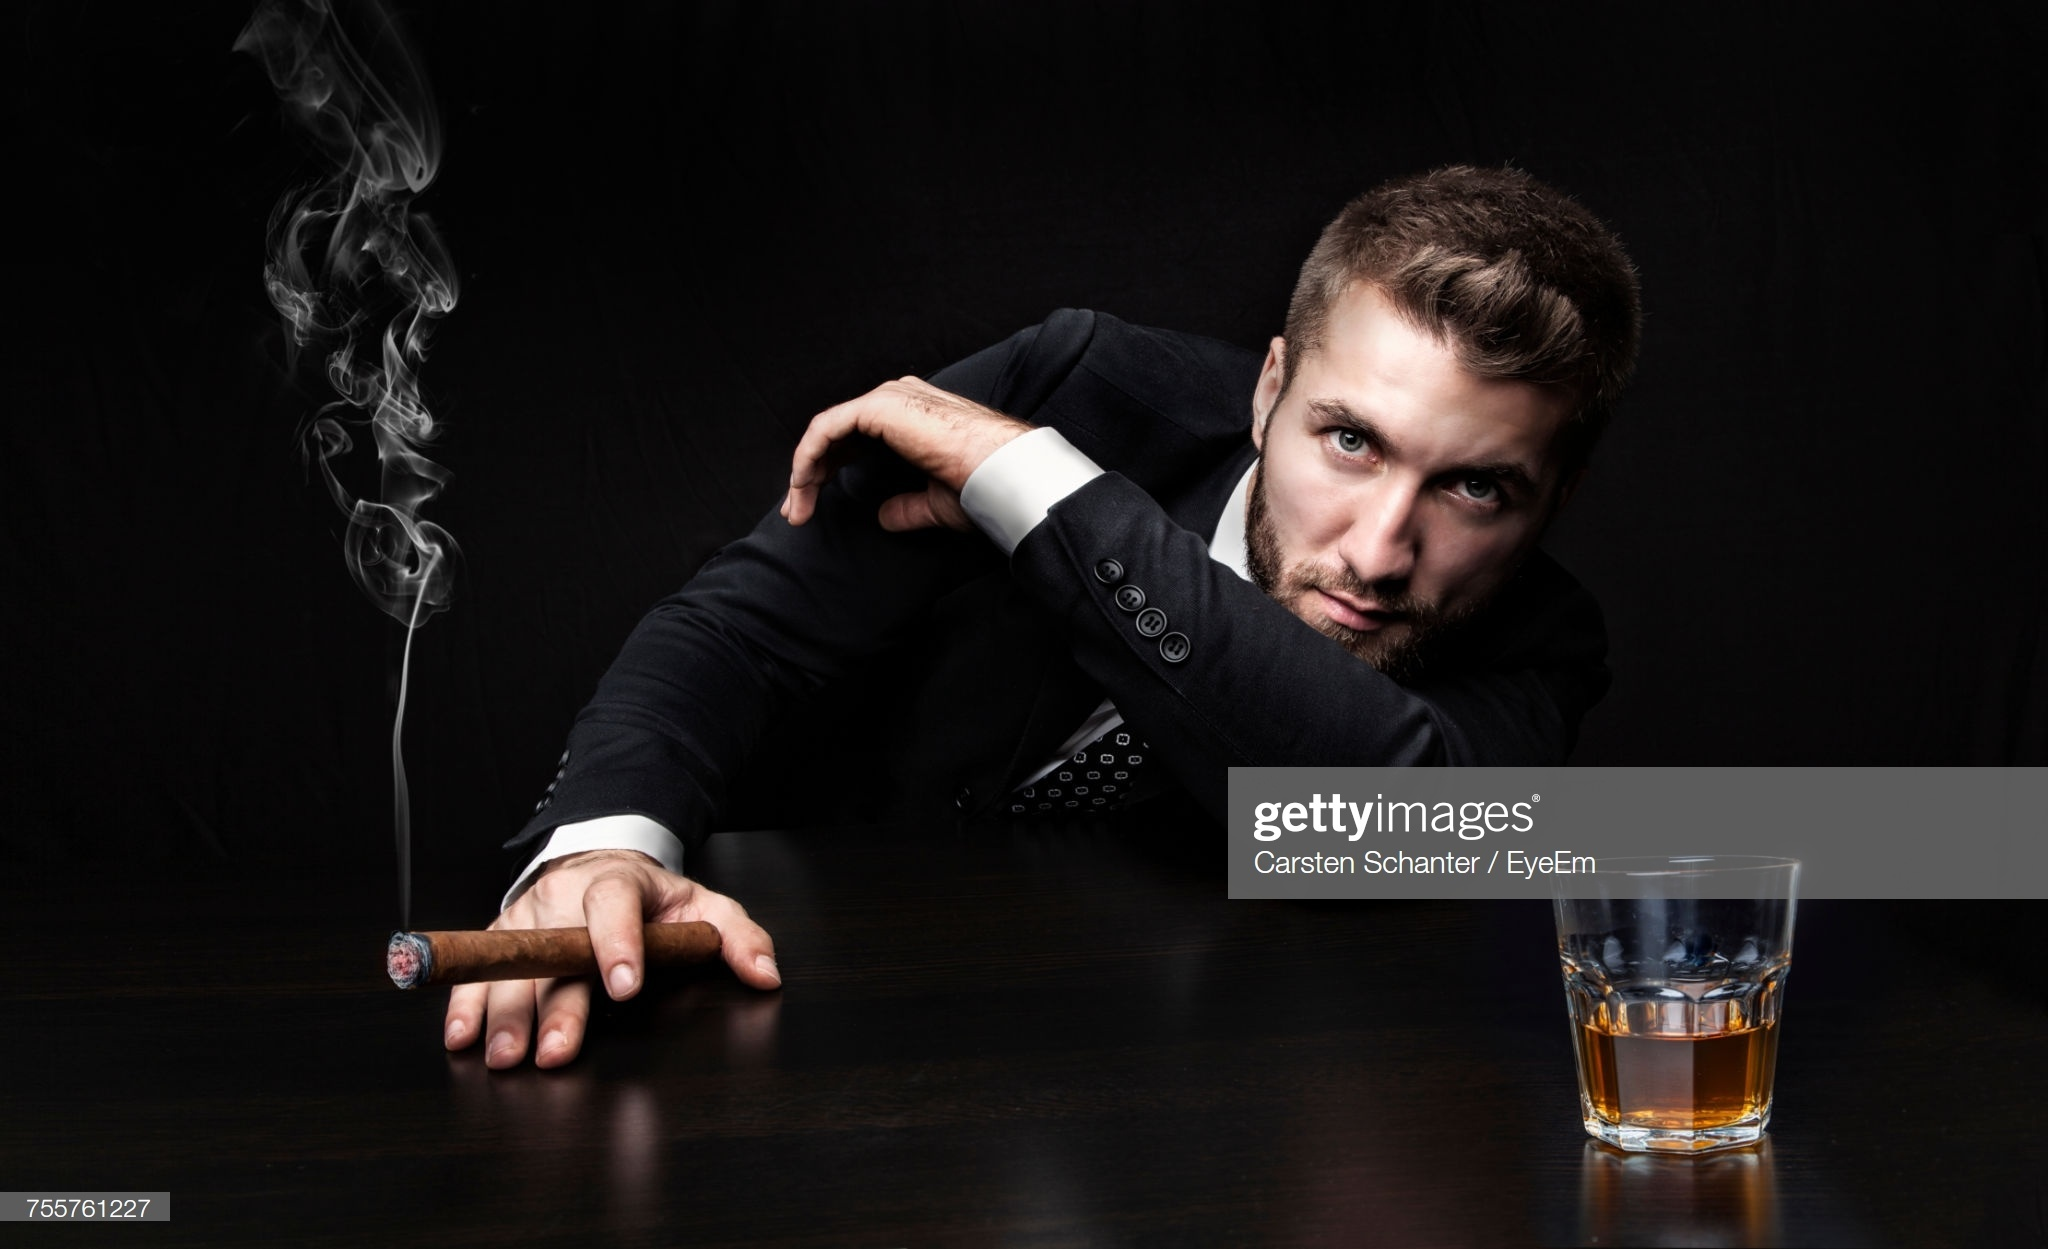whiskey: (1540, 837, 1831, 1169)
